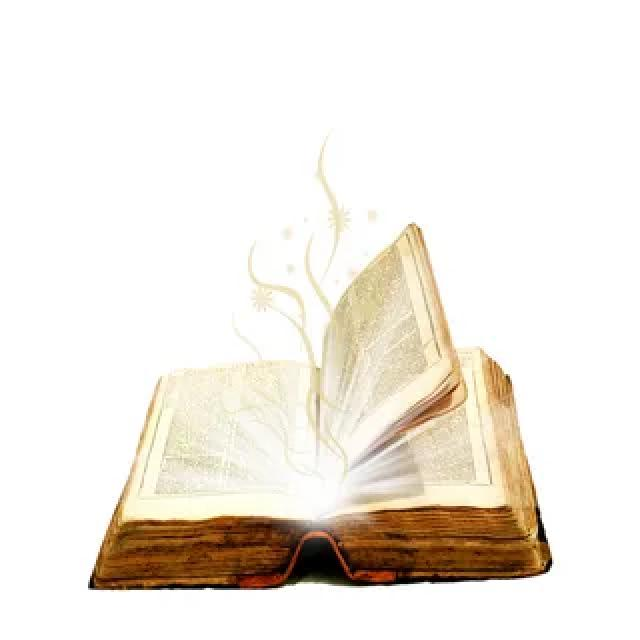book: (87, 216, 566, 617)
